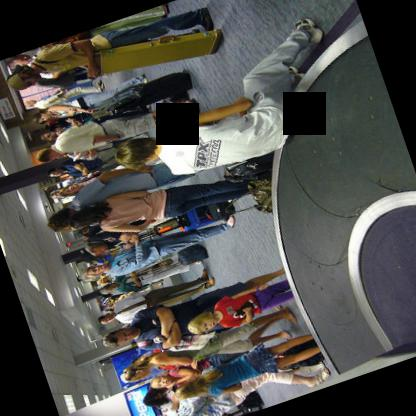backpack: (34, 31, 92, 63)
handbag: (225, 172, 272, 213), (167, 330, 216, 350)
suitcase: (101, 71, 191, 115), (152, 199, 234, 234), (229, 152, 273, 175), (177, 242, 209, 264), (235, 388, 262, 414)
